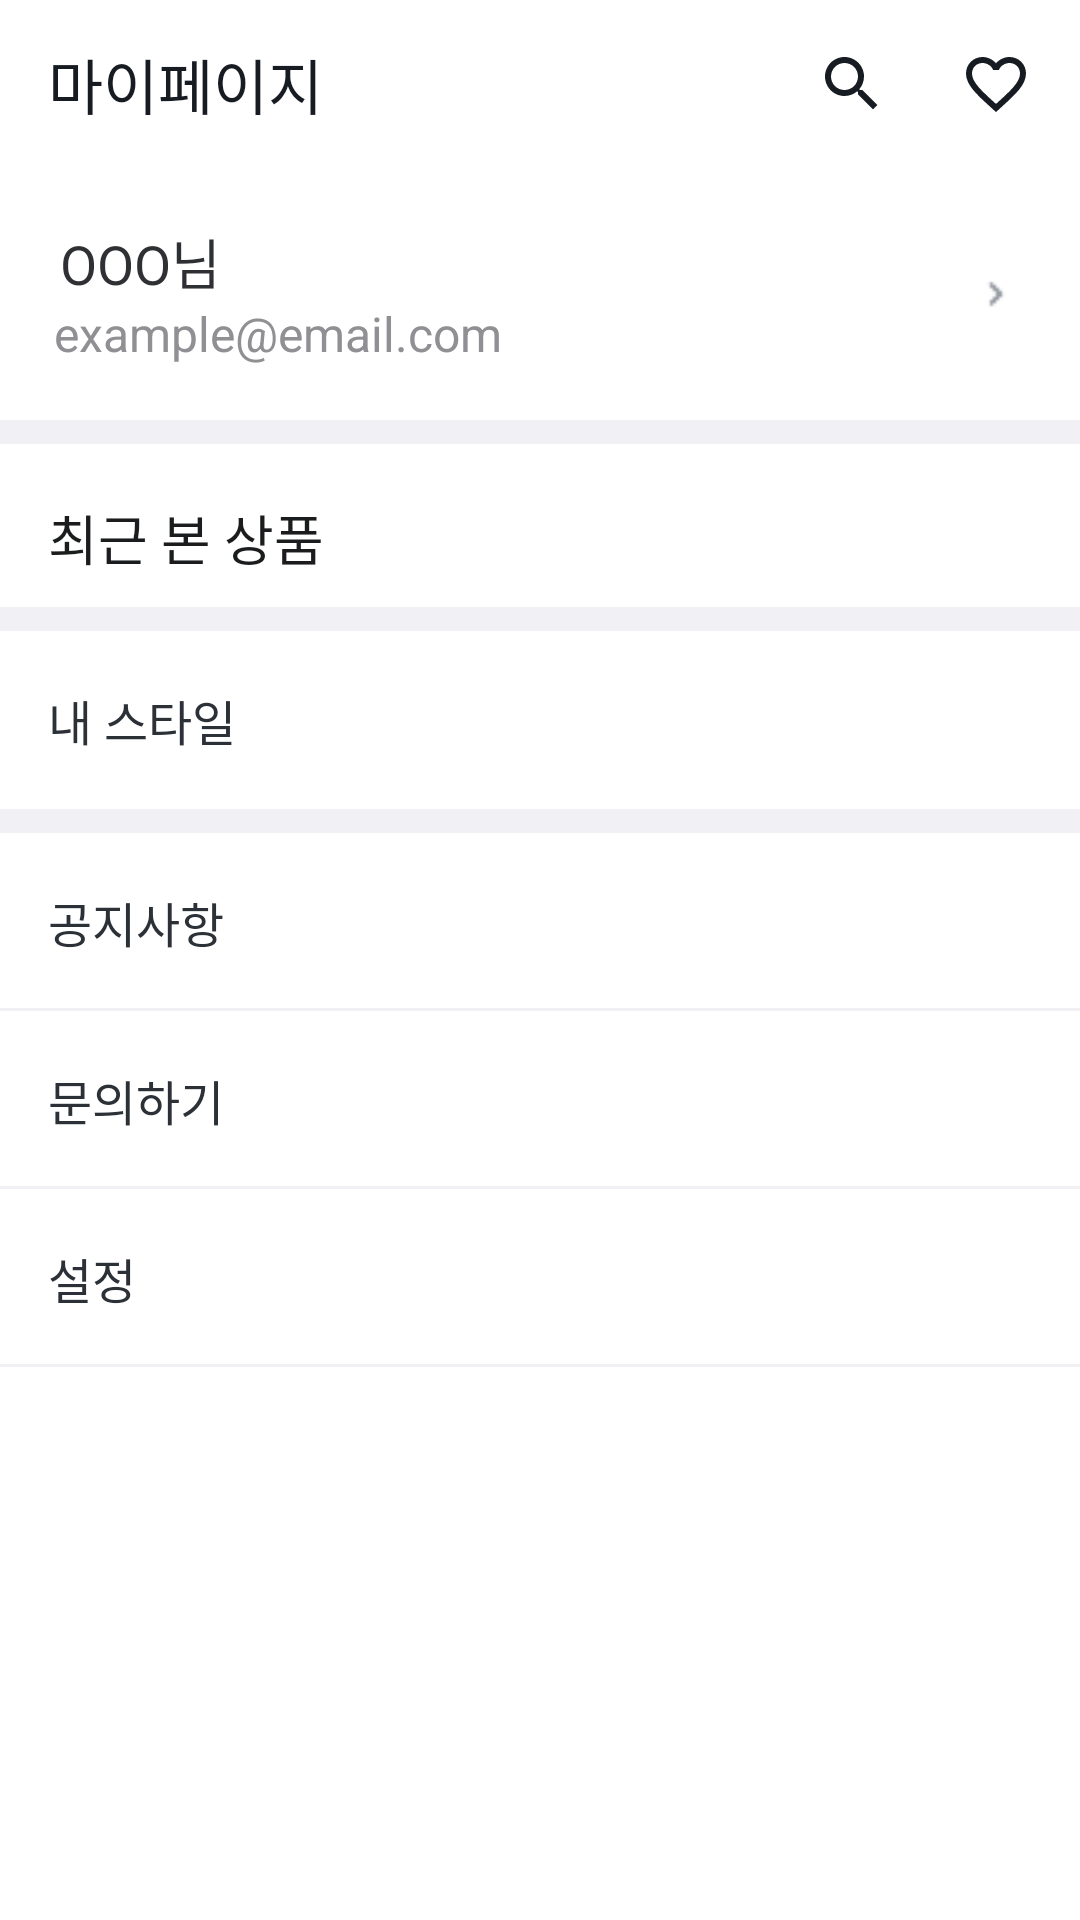

Locate icon controls on the screen. Image size 1080x1920, boxes as (x1, y1, x2, y2).
favorite border: (966, 57, 1026, 112)
login right: (989, 281, 1003, 307)
search: (825, 57, 877, 109)
